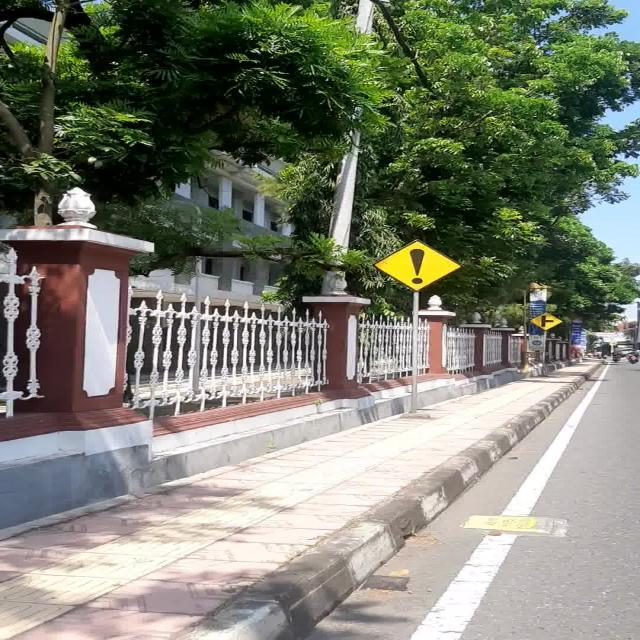Hati-Hati: (371, 239, 464, 292)
